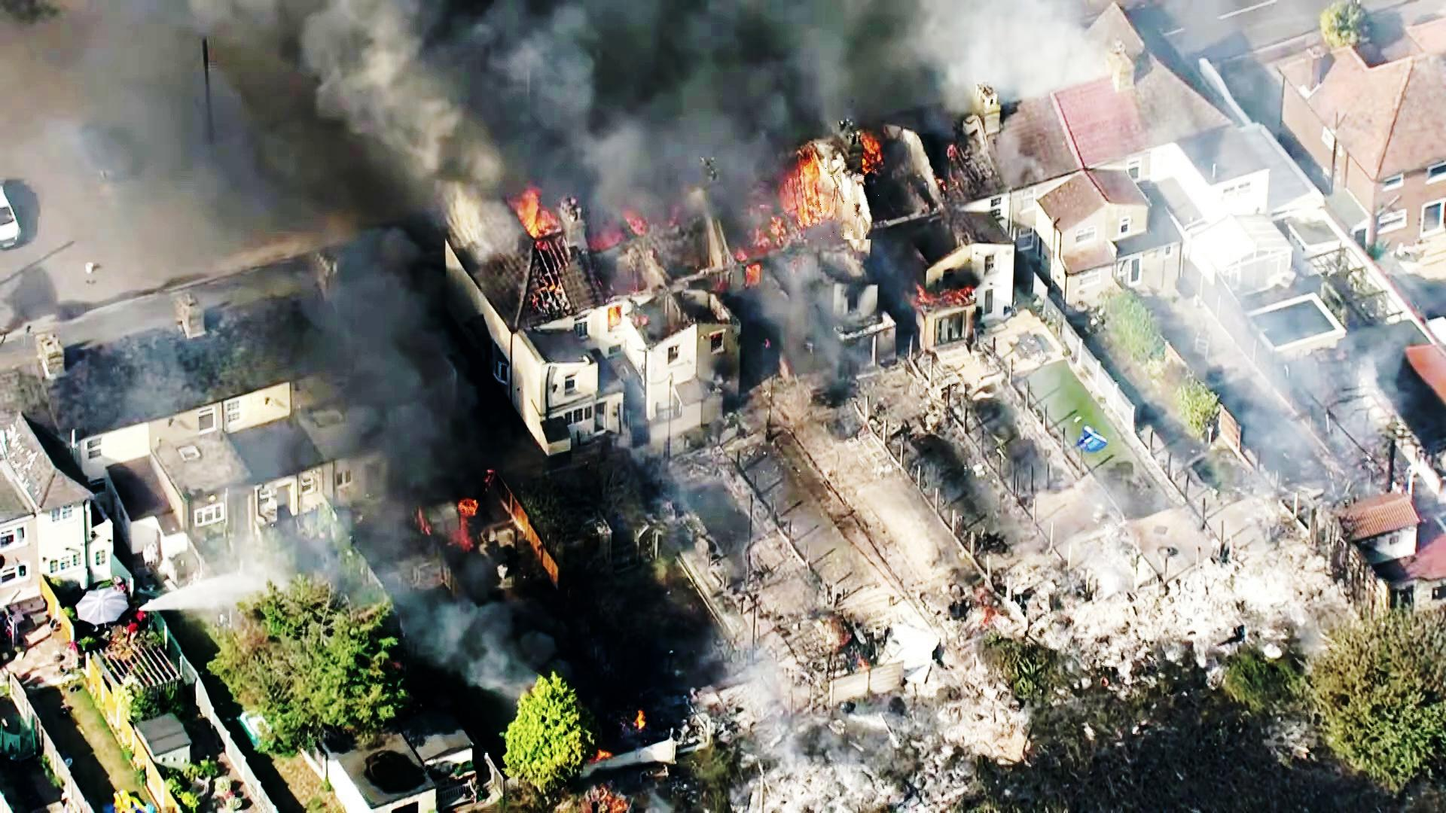fire: (787, 160, 887, 241)
